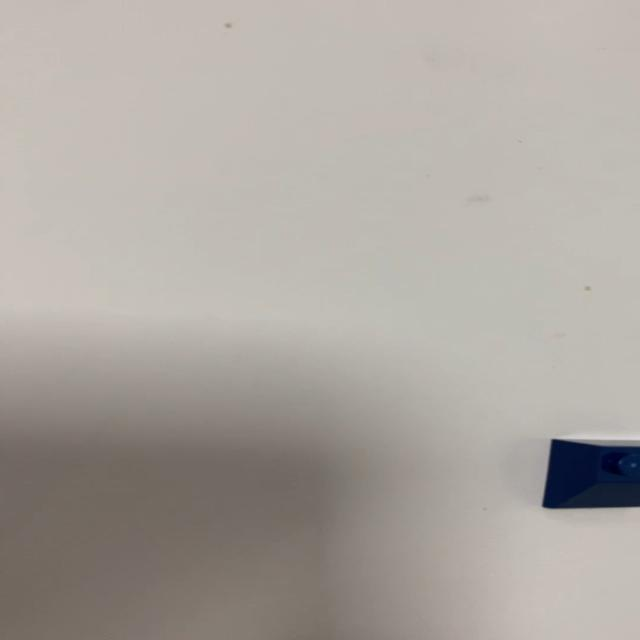P2x2x1: (540, 437, 638, 509)
